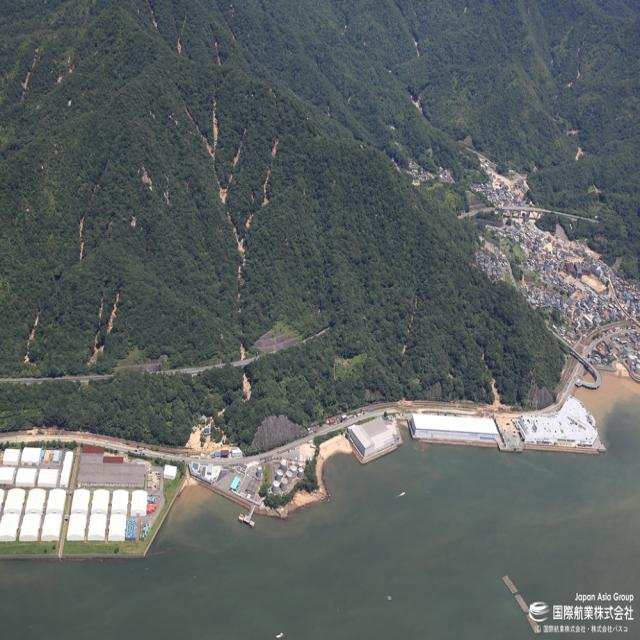Debris-flow: (116, 330, 298, 376), (226, 210, 254, 301), (215, 141, 242, 204), (186, 418, 228, 455), (261, 139, 279, 205), (0, 376, 112, 385), (204, 103, 219, 166), (24, 311, 39, 363), (106, 290, 120, 333), (88, 337, 105, 365), (242, 373, 251, 399), (141, 167, 151, 188), (99, 292, 104, 329), (80, 216, 84, 256), (495, 394, 499, 402)
